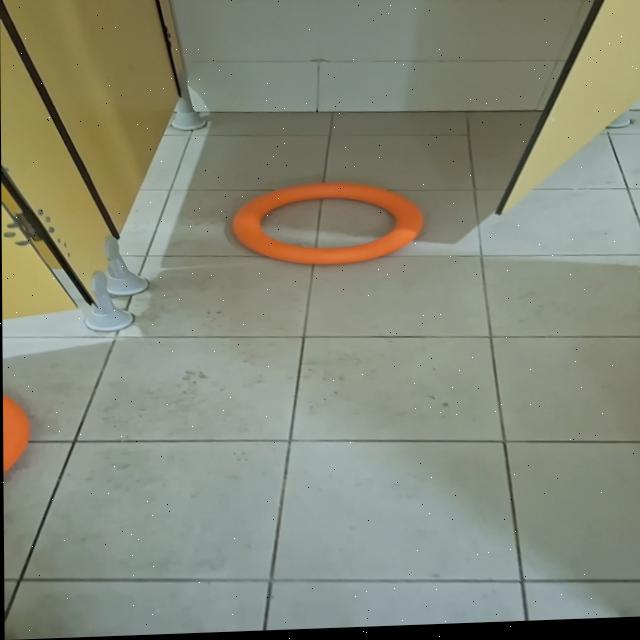note: (230, 181, 426, 271), (2, 387, 29, 475)
